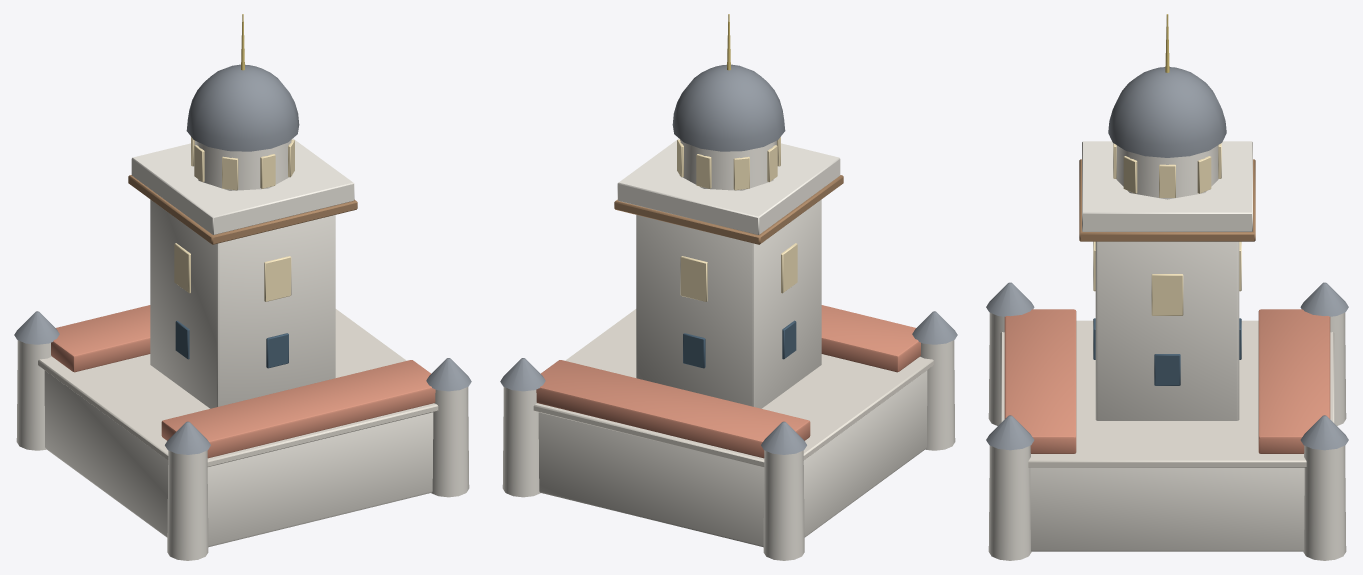
Rendered from Istanbul_KizKulesi.fbx.
The picture shows the model from 3 angles, left to right: view 1: azimuth 30°, elevation 25°; view 2: azimuth 150°, elevation 25°; view 3: azimuth 270°, elevation 25°; orthographic projection. The views are drawn at different scales.
Visible parts, largest first — view 1: Istanbul_KizKulesi; view 2: Istanbul_KizKulesi; view 3: Istanbul_KizKulesi.
Part boxes in pixels (<box>): Istanbul_KizKulesi: <box>14,14,471,560</box>; Istanbul_KizKulesi: <box>500,14,957,560</box>; Istanbul_KizKulesi: <box>986,14,1348,560</box>.
Bounding box in the file's own units: 13.16 × 18.85 × 13.16.
